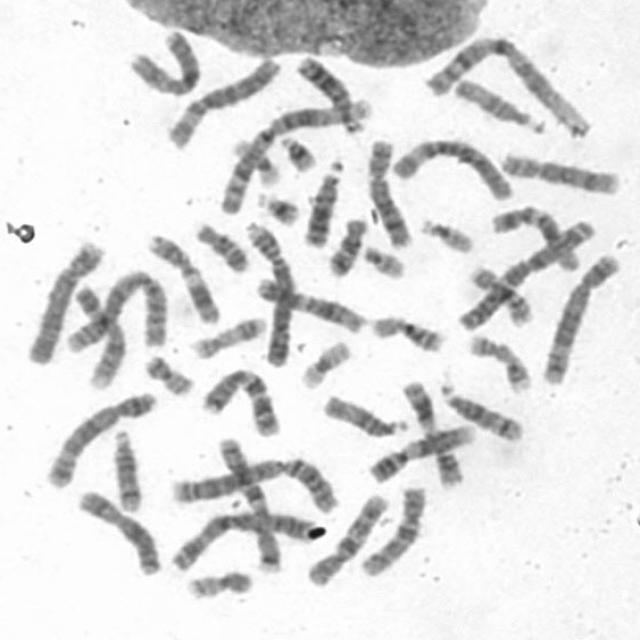A1: (215, 92, 375, 217), (418, 28, 596, 140)
A2: (166, 451, 342, 513), (62, 264, 170, 357)
A3: (451, 214, 597, 332), (167, 504, 321, 572)
B4: (23, 234, 109, 366), (238, 217, 296, 369)
B5: (40, 384, 160, 490), (537, 246, 625, 387)
C10: (301, 487, 392, 589), (355, 480, 431, 578)
C11: (141, 227, 223, 326), (397, 375, 467, 489)
C12: (250, 272, 370, 336), (486, 199, 584, 272)
C6: (160, 51, 283, 151), (388, 131, 517, 202)
C7: (212, 428, 288, 575), (194, 361, 283, 438)
C8: (496, 146, 624, 196), (362, 134, 416, 250)
C9: (364, 418, 478, 484), (68, 281, 128, 390)
D13: (292, 49, 368, 136), (299, 153, 347, 249)
D14: (436, 378, 528, 443), (106, 423, 146, 514)
D15: (448, 72, 548, 134), (318, 388, 413, 438)
E16: (464, 259, 534, 327), (366, 308, 449, 354)
E17: (462, 328, 536, 394), (187, 310, 270, 360)
E18: (190, 217, 251, 274), (323, 210, 370, 278)
F19: (294, 334, 354, 391), (225, 132, 282, 187)
F20: (140, 348, 198, 398), (182, 564, 256, 601)
G21: (252, 185, 302, 227), (275, 129, 320, 173)
G22: (414, 212, 477, 256), (358, 239, 408, 280)
X: (72, 483, 165, 577), (123, 22, 206, 98)
